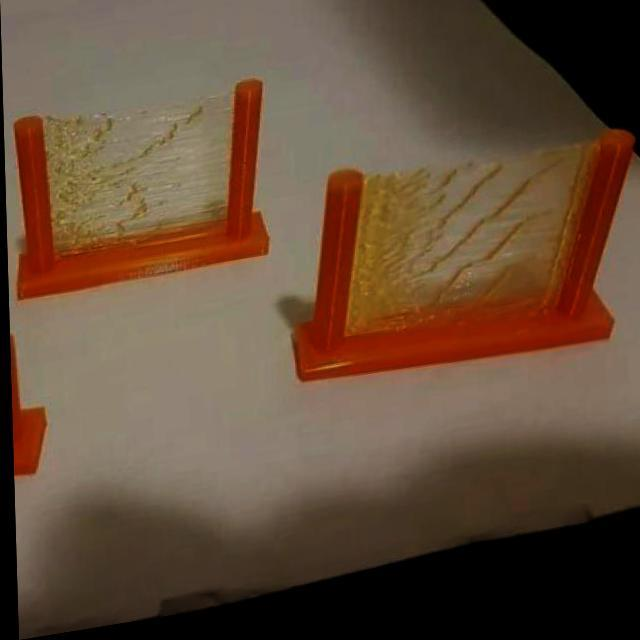stringing: (338, 151, 606, 376), (32, 92, 242, 270)
